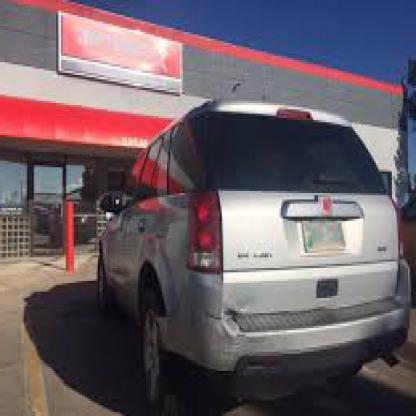dent: (228, 290, 252, 320), (108, 262, 131, 290)
